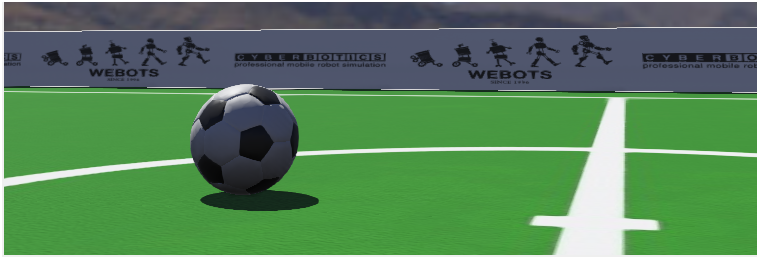Ball: (167, 2, 357, 221)
